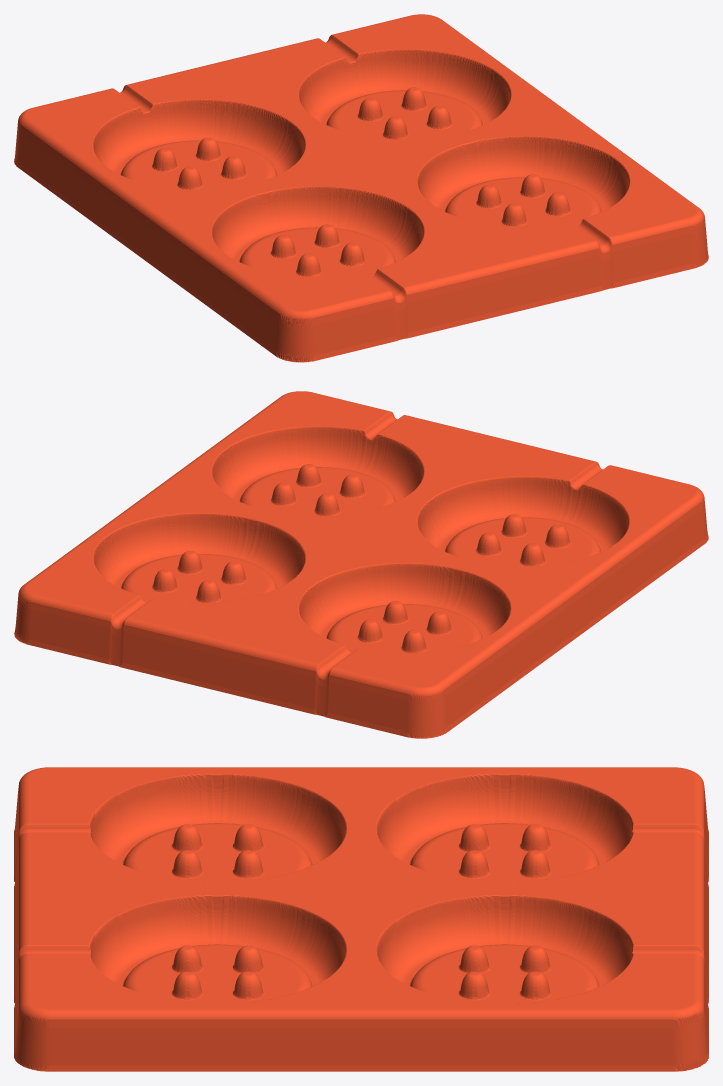
The model's file is mold.glb.
3 renders of one model, top to bottom at view 1: azimuth 30°, elevation 25°; view 2: azimuth 150°, elevation 25°; view 3: azimuth 270°, elevation 25°, orthographic. The views are drawn at different scales.
Visible parts, largest first — view 1: geometry_0; view 2: geometry_0; view 3: geometry_0.
Part boxes in pixels (box(x1,y1,x2,y2)): geometry_0: box(14, 14, 708, 362); geometry_0: box(14, 391, 708, 738); geometry_0: box(14, 767, 708, 1071).
Size of the model in its own units: 0.1497 by 0.0155 by 0.1735.
